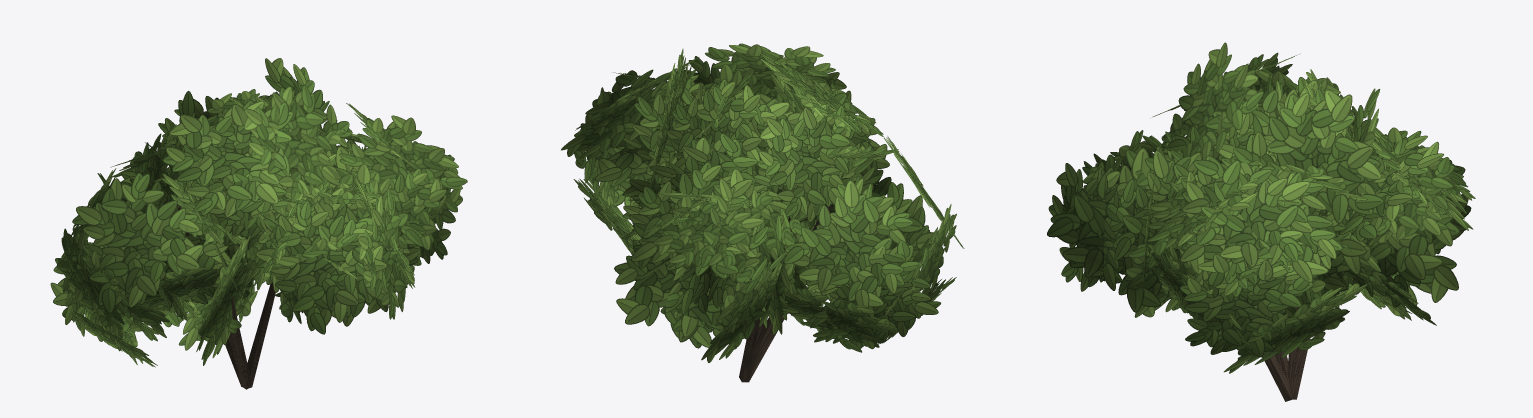
Rendered from cespuglio_1.glb.
3 views of the same model, side by side, from view 1: azimuth 30°, elevation 25°; view 2: azimuth 150°, elevation 25°; view 3: azimuth 270°, elevation 25° (orthographic). The views are drawn at different scales.
Visible parts, largest first — view 1: cespuglio_1; view 2: cespuglio_1; view 3: cespuglio_1.
Boxes of the visible parts, <box> form: cespuglio_1: <box>50,58,467,389</box>; cespuglio_1: <box>561,43,964,382</box>; cespuglio_1: <box>1047,42,1475,401</box>.
Bounding box in the file's own units: 4 × 3.17 × 3.78.
2 materials, 2 textured.
